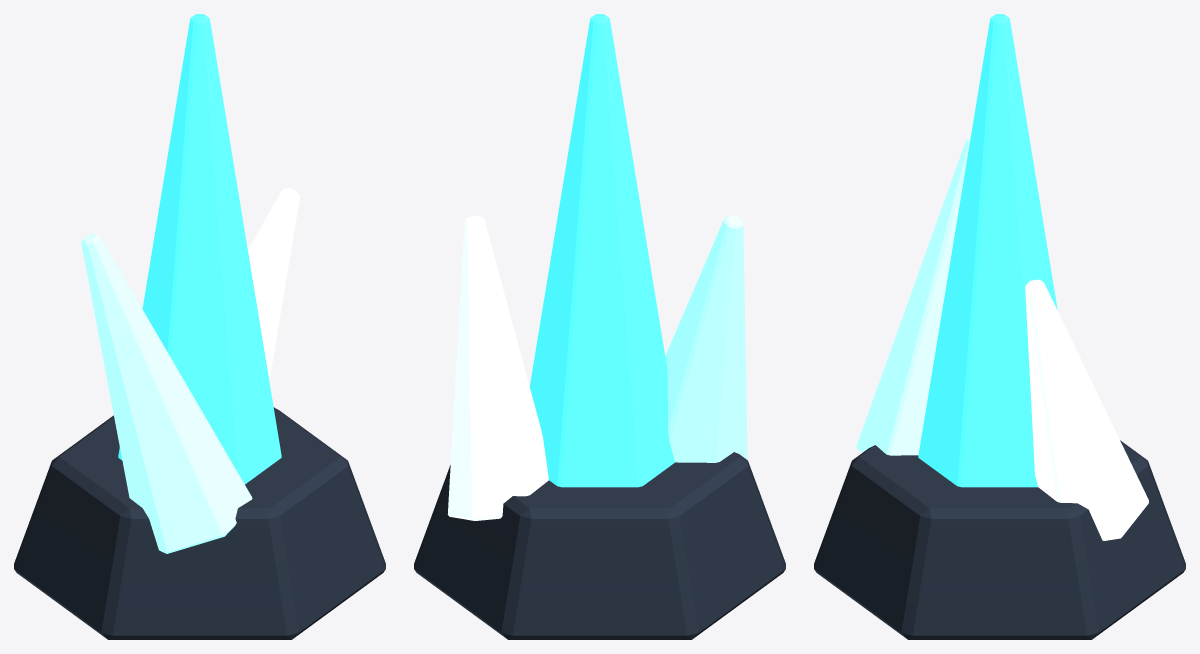
The model's file is crystal.glb.
3 renders of one model, left to right at view 1: azimuth 30°, elevation 25°; view 2: azimuth 150°, elevation 25°; view 3: azimuth 270°, elevation 25°, orthographic.
Parts seen in each view (by area): view 1: crystal; view 2: crystal; view 3: crystal.
Boxes of the visible parts, box(x1,y1,x2,y2) form: crystal: box(14, 14, 385, 639); crystal: box(414, 14, 785, 639); crystal: box(814, 14, 1185, 639).
Bounding box in the file's own units: 0.6158 × 1.15 × 0.6969.
